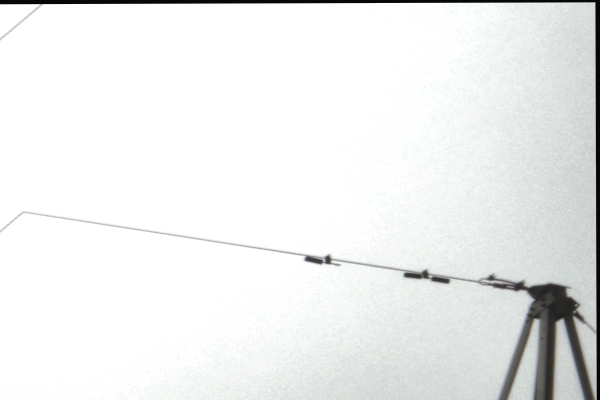damper: (401, 268, 452, 285)
damper_defect: (302, 252, 342, 266)
